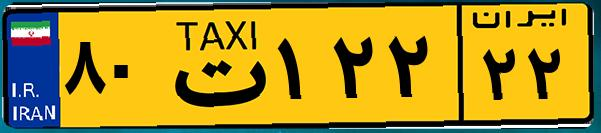0: (110, 28, 158, 98)
1: (270, 28, 330, 110)
2: (385, 28, 445, 110), (330, 28, 385, 110), (475, 38, 525, 113), (525, 38, 570, 115)
8: (57, 26, 110, 100)
ت: (158, 12, 270, 120)
